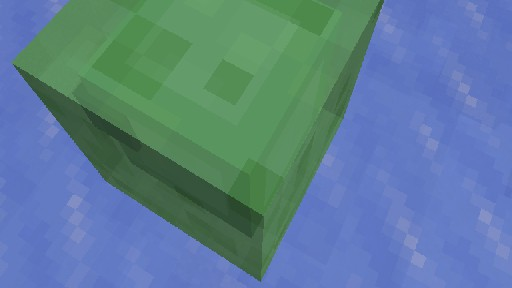slime: (10, 0, 392, 281)
